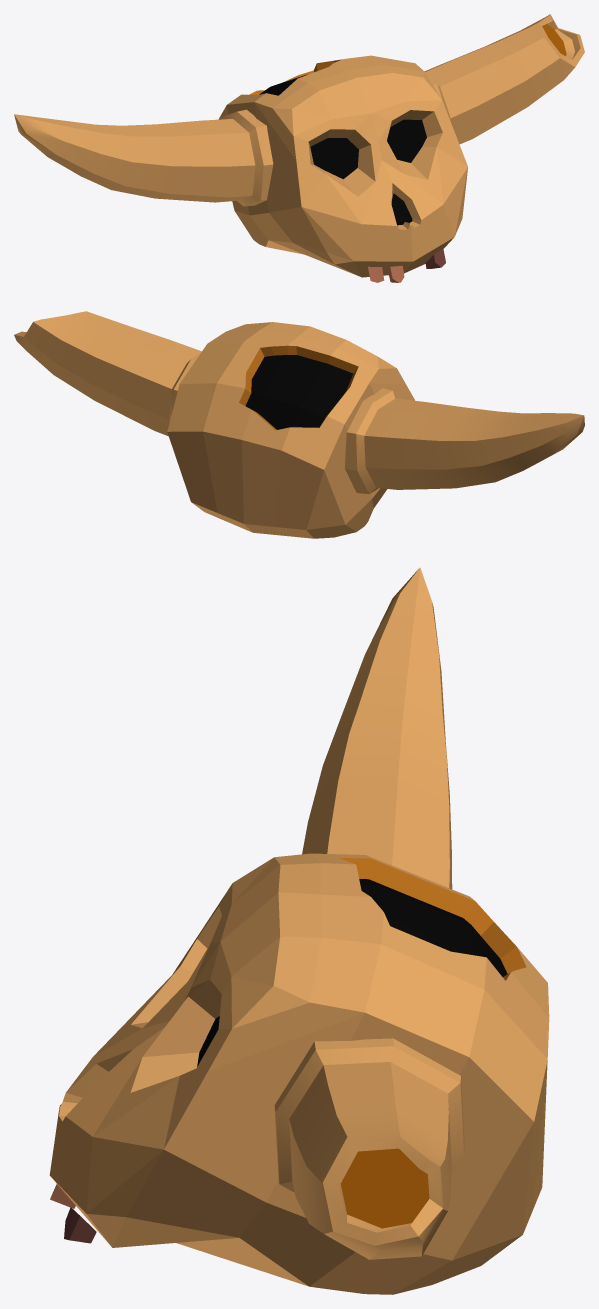
File: Skull 05.fbx
3 renders of one model, top to bottom at view 1: azimuth 30°, elevation 25°; view 2: azimuth 150°, elevation 25°; view 3: azimuth 270°, elevation 25°, orthographic. The views are drawn at different scales.
Visible parts, largest first — view 1: Skull 05; view 2: Skull 05; view 3: Skull 05.
Boxes of the visible parts, <box> form: Skull 05: <box>14,14,584,282</box>; Skull 05: <box>14,311,584,538</box>; Skull 05: <box>49,567,549,1294</box>.
Size of the model in its own units: 101 by 30.73 by 38.7.
